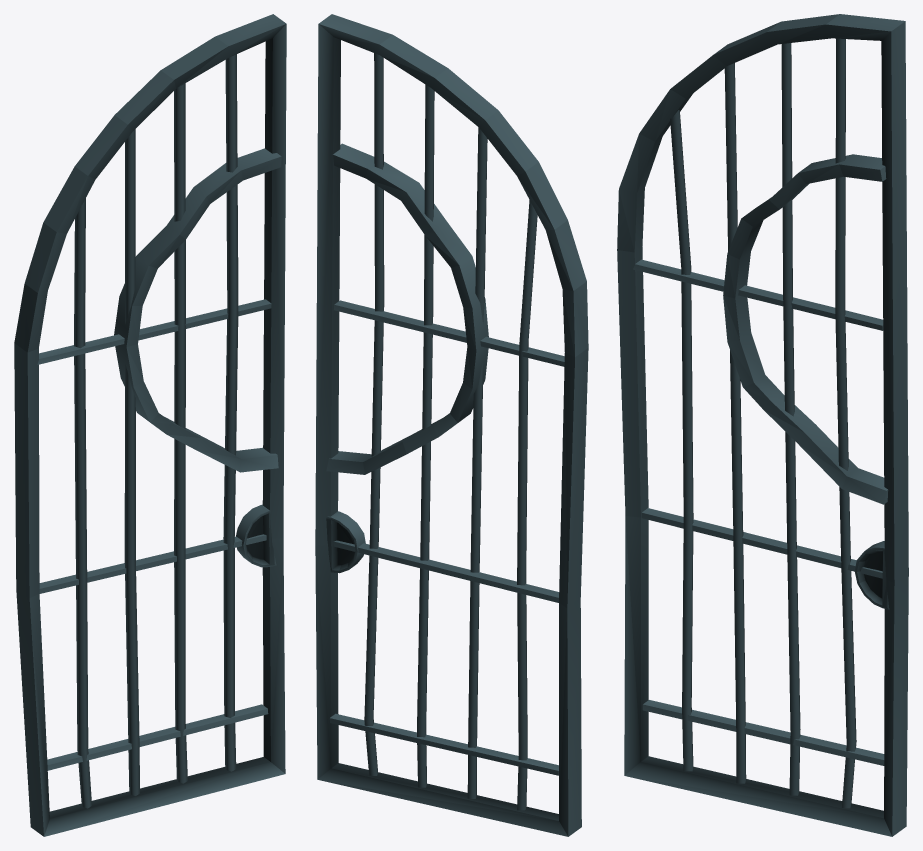
File: obj_gateDoor_right_LOW.FBX
3 views of the same model, side by side, from view 1: azimuth 30°, elevation 25°; view 2: azimuth 150°, elevation 25°; view 3: azimuth 330°, elevation 25° (orthographic). The views are drawn at different scales.
Parts seen in each view (by area): view 1: obj_gateDoor_right_LOW; view 2: obj_gateDoor_right_LOW; view 3: obj_gateDoor_right_LOW.
Boxes of the visible parts, x1=… form: obj_gateDoor_right_LOW: x1=14, y1=14, x2=286, y2=836; obj_gateDoor_right_LOW: x1=315, y1=14, x2=588, y2=836; obj_gateDoor_right_LOW: x1=617, y1=14, x2=908, y2=836.
Bounding box in the file's own units: 1.67 × 4.65 × 0.2442.
